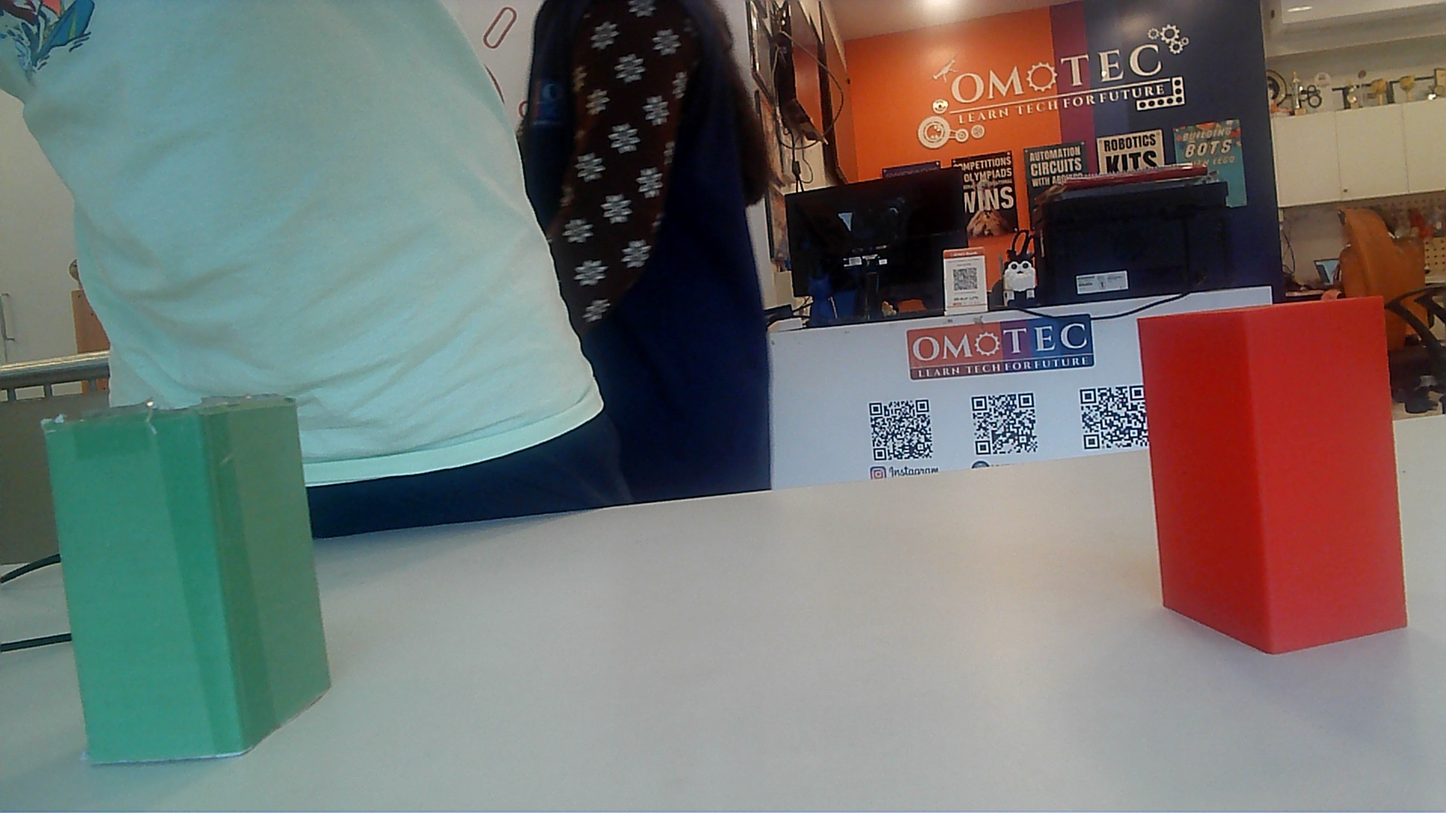green: (41, 401, 310, 766)
